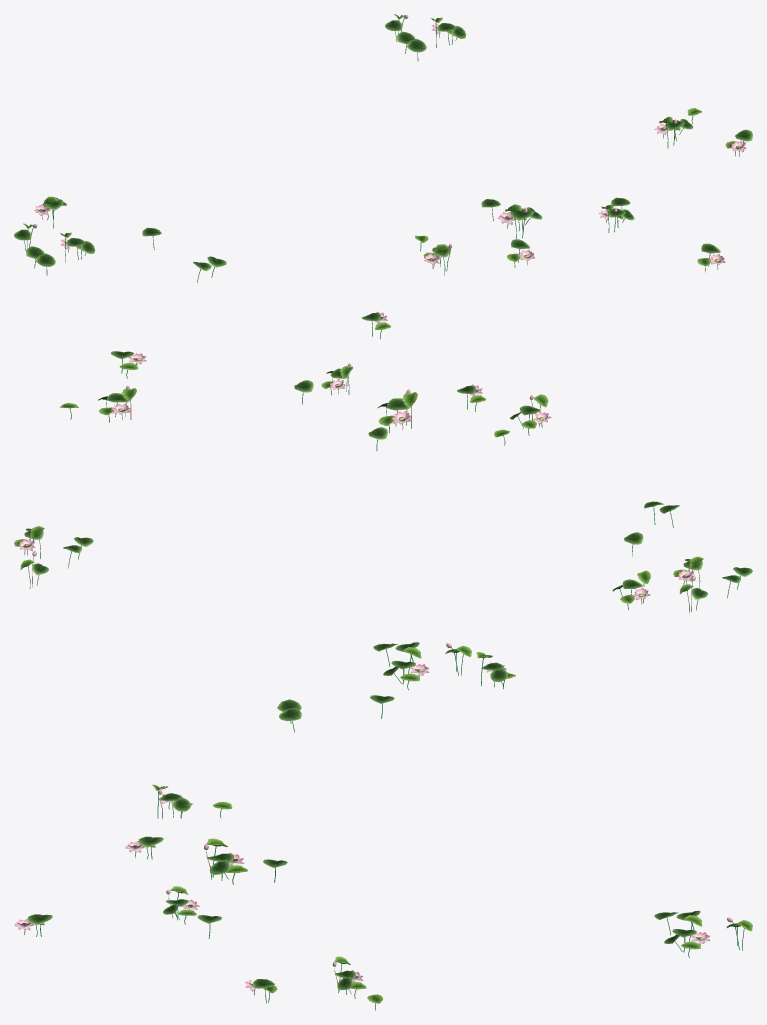
The model's file is s_battle_05_plant.FBX.
The picture shows the model from 3 angles, top to bottom: view 1: azimuth 30°, elevation 25°; view 2: azimuth 150°, elevation 25°; view 3: azimuth 270°, elevation 25°; orthographic projection. The views are drawn at different scales.
Parts seen in each view (by area): view 1: hehua2, hehua014, hehua1, hehua4; view 2: hehua2, hehua4, hehua014, hehua1, hehua10; view 3: hehua2, hehua1, hehua014, hehua011, hehua7, hehua4.
Boxes of the visible parts, x1=… form: hehua2: x1=481, y1=199, x2=542, y2=239; hehua014: x1=654, y1=108, x2=701, y2=148; hehua1: x1=598, y1=197, x2=634, y2=232; hehua4: x1=415, y1=235, x2=452, y2=275; hehua2: x1=368, y1=389, x2=417, y2=450; hehua4: x1=494, y1=394, x2=551, y2=445; hehua014: x1=60, y1=385, x2=136, y2=422; hehua1: x1=294, y1=363, x2=352, y2=404; hehua10: x1=612, y1=570, x2=650, y2=609; hehua2: x1=204, y1=838, x2=287, y2=884; hehua1: x1=163, y1=886, x2=221, y2=938; hehua014: x1=332, y1=956, x2=382, y2=1010; hehua011: x1=664, y1=915, x2=709, y2=958; hehua7: x1=383, y1=647, x2=428, y2=690; hehua4: x1=152, y1=784, x2=232, y2=819.
Size of the model in its own units: 102 by 6.33 by 89.66.
